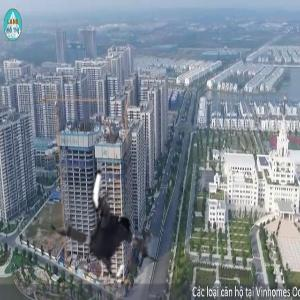drone: (46, 154, 182, 290)
